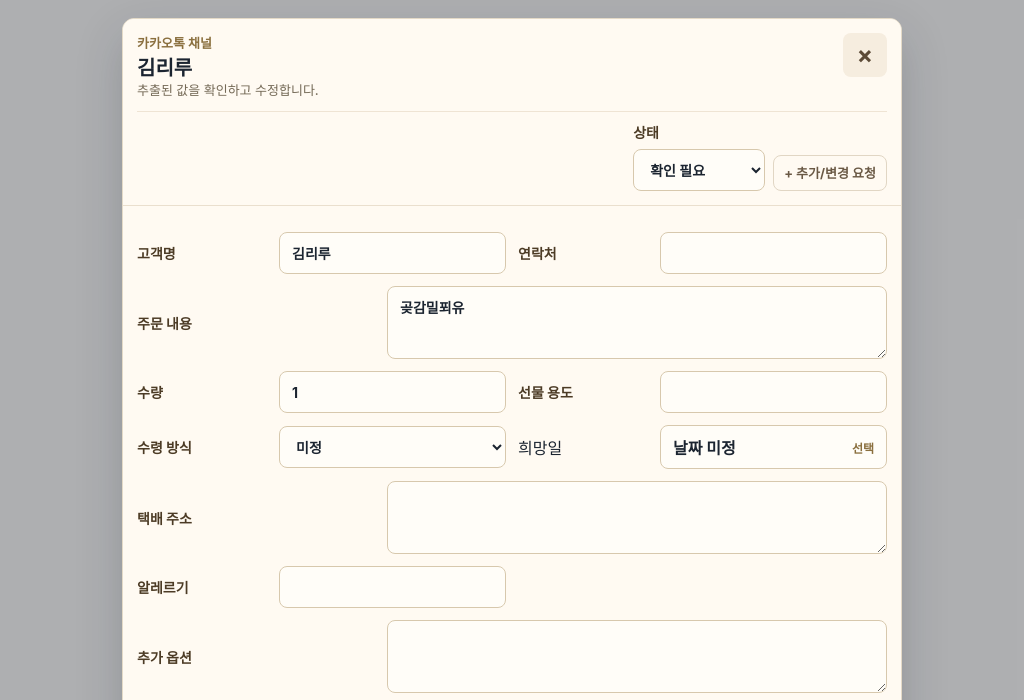
Test: OrderDetail › opens addition or change request editor from the subtle header button
Click the button "+ 추가/변경 요청" at (830, 173), box [773, 155, 887, 191]
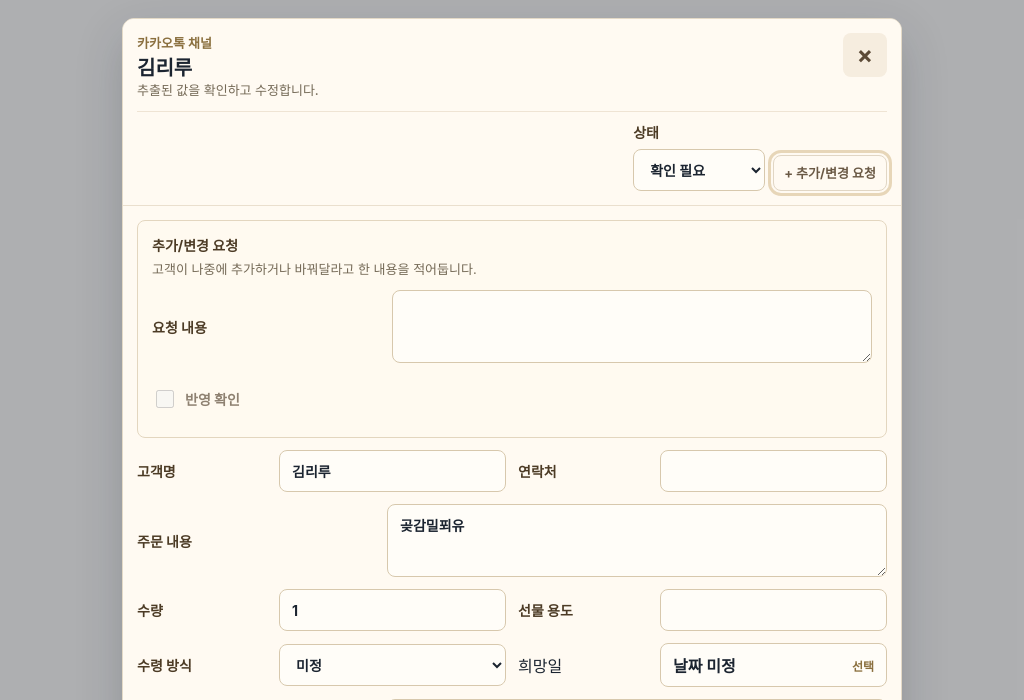
Expected: the text "고객이 나중에 추가하거나 바꿔달라고 한 내용을 적어둡니다." is shown, [152, 261, 477, 277]
Expected: the text box named "추가/변경 요청 내용" is shown, [392, 290, 872, 363]
